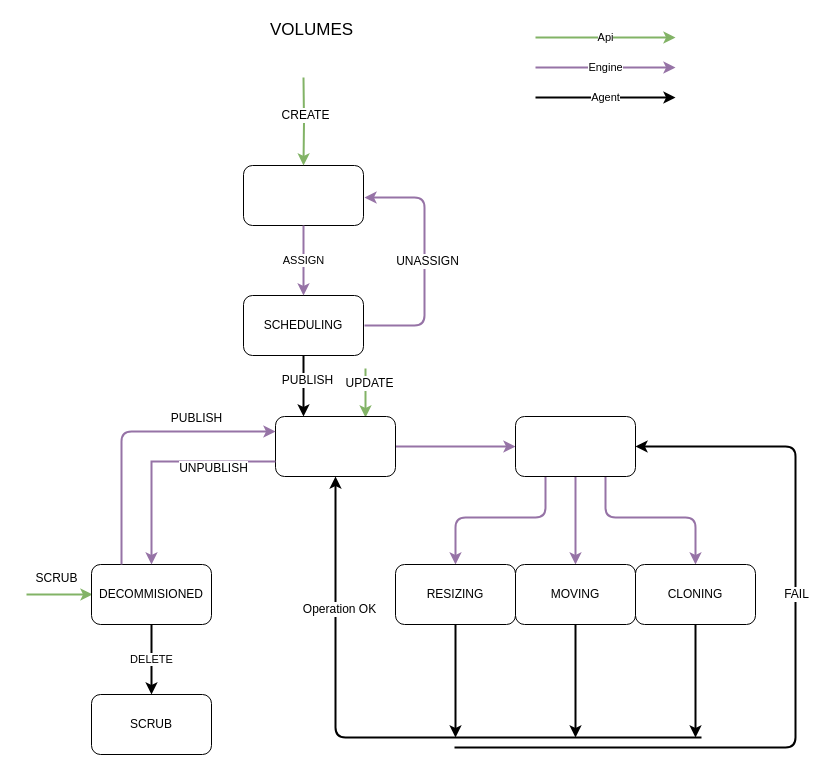
Image size: 825x773. Some labels were removed from this diagram. The centre of each missing label's shape, as x and y in pixels:
PENDING: point 575,446
READY: point 335,446
REGISTERED: point 303,195
